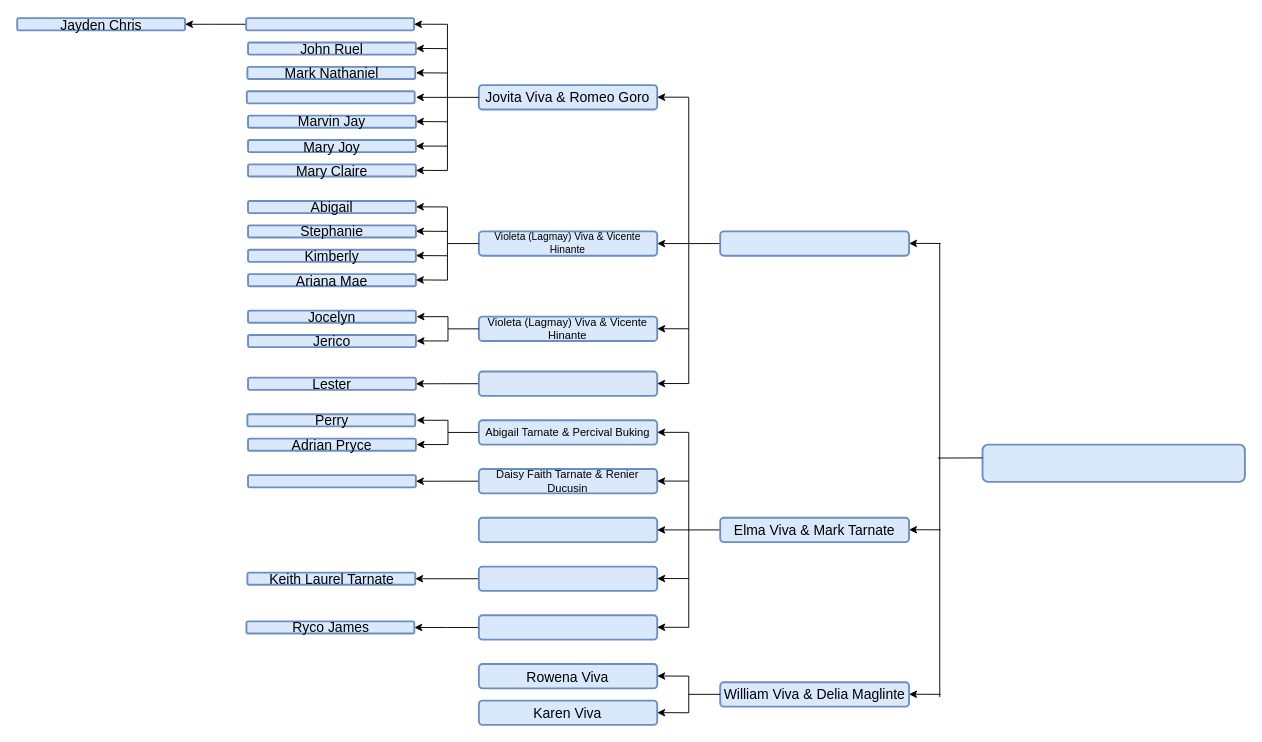
This 1262x742 diagram has some shape labels left out. Each missing label, with the centre of its shape:
"3. Felix (Lumas-e) Viva+ & Patricia Ligunan+" belongs at pixel 1113 462.
"Bartolomeo (Gil) Viva & Lolita" belongs at pixel 814 243.
"Caroline Tarnate" belongs at pixel 567 578.
"Divina Tarnate & Reynaldo Nangan" belongs at pixel 567 627.
"Joan & Jhulius Donato" belongs at pixel 330 24.
"Maria Theresa Tarnate" belongs at pixel 567 529.
"Rhylee Jay" belongs at pixel 331 481.
"Romeo Jr." belongs at pixel 330 97.
"Ronie Viva & Cerrie" belongs at pixel 567 383.
